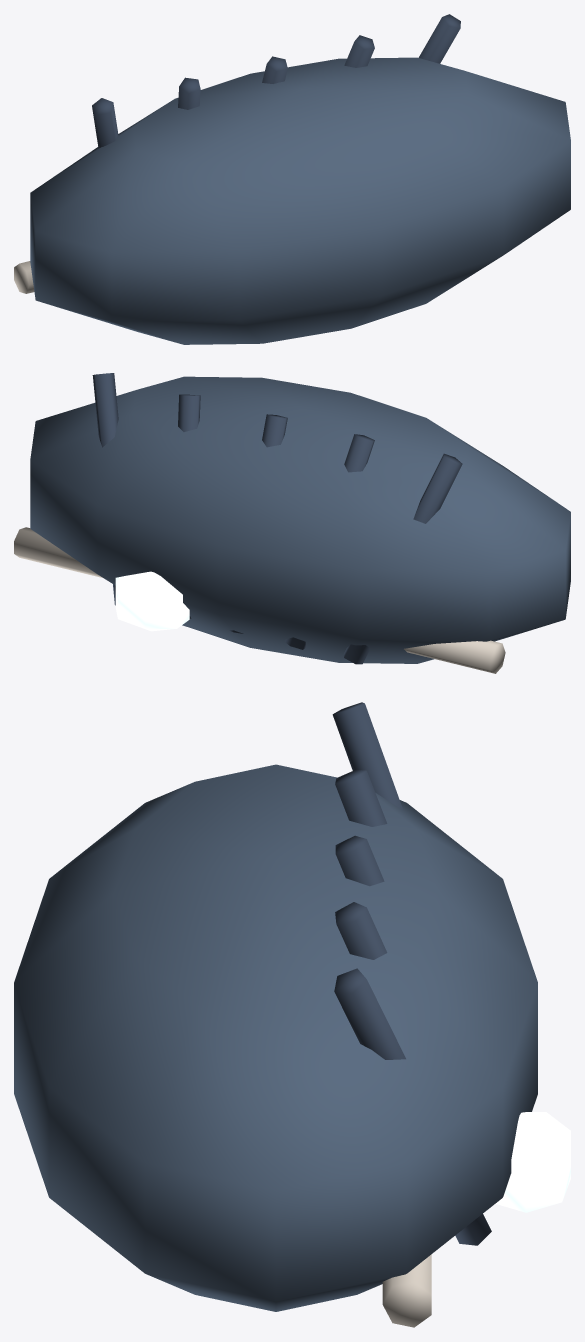
Rendered from xy_item_silent_shell.glb.
The picture shows the model from 3 angles, top to bottom: view 1: azimuth 30°, elevation 25°; view 2: azimuth 150°, elevation 25°; view 3: azimuth 270°, elevation 25°; orthographic projection. The views are drawn at different scales.
Visible parts, largest first — view 1: SilentShell; view 2: SilentShell; view 3: SilentShell.
Part boxes in pixels (x1,y1,x2,y2): SilentShell: (14, 14, 570, 344); SilentShell: (14, 373, 570, 673); SilentShell: (14, 702, 570, 1327).
Bounding box in the file's own units: 1.34 × 0.5704 × 0.7569.
